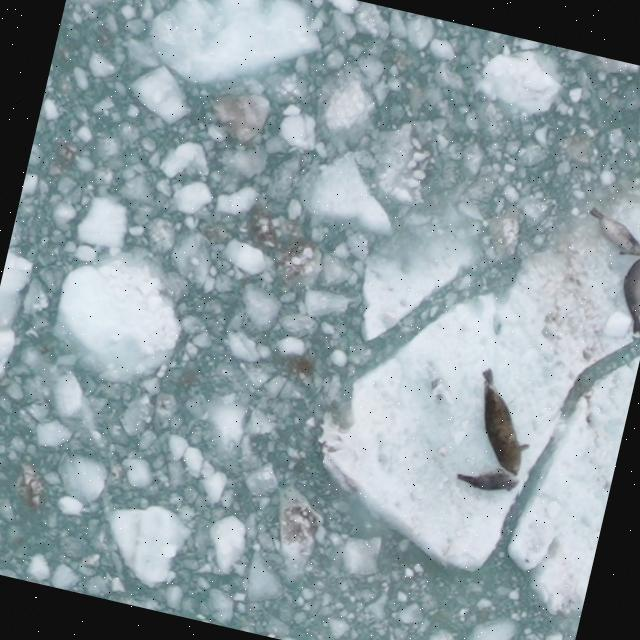seal: (457, 362, 550, 481), (577, 201, 640, 261), (452, 457, 523, 501), (610, 242, 640, 337)
